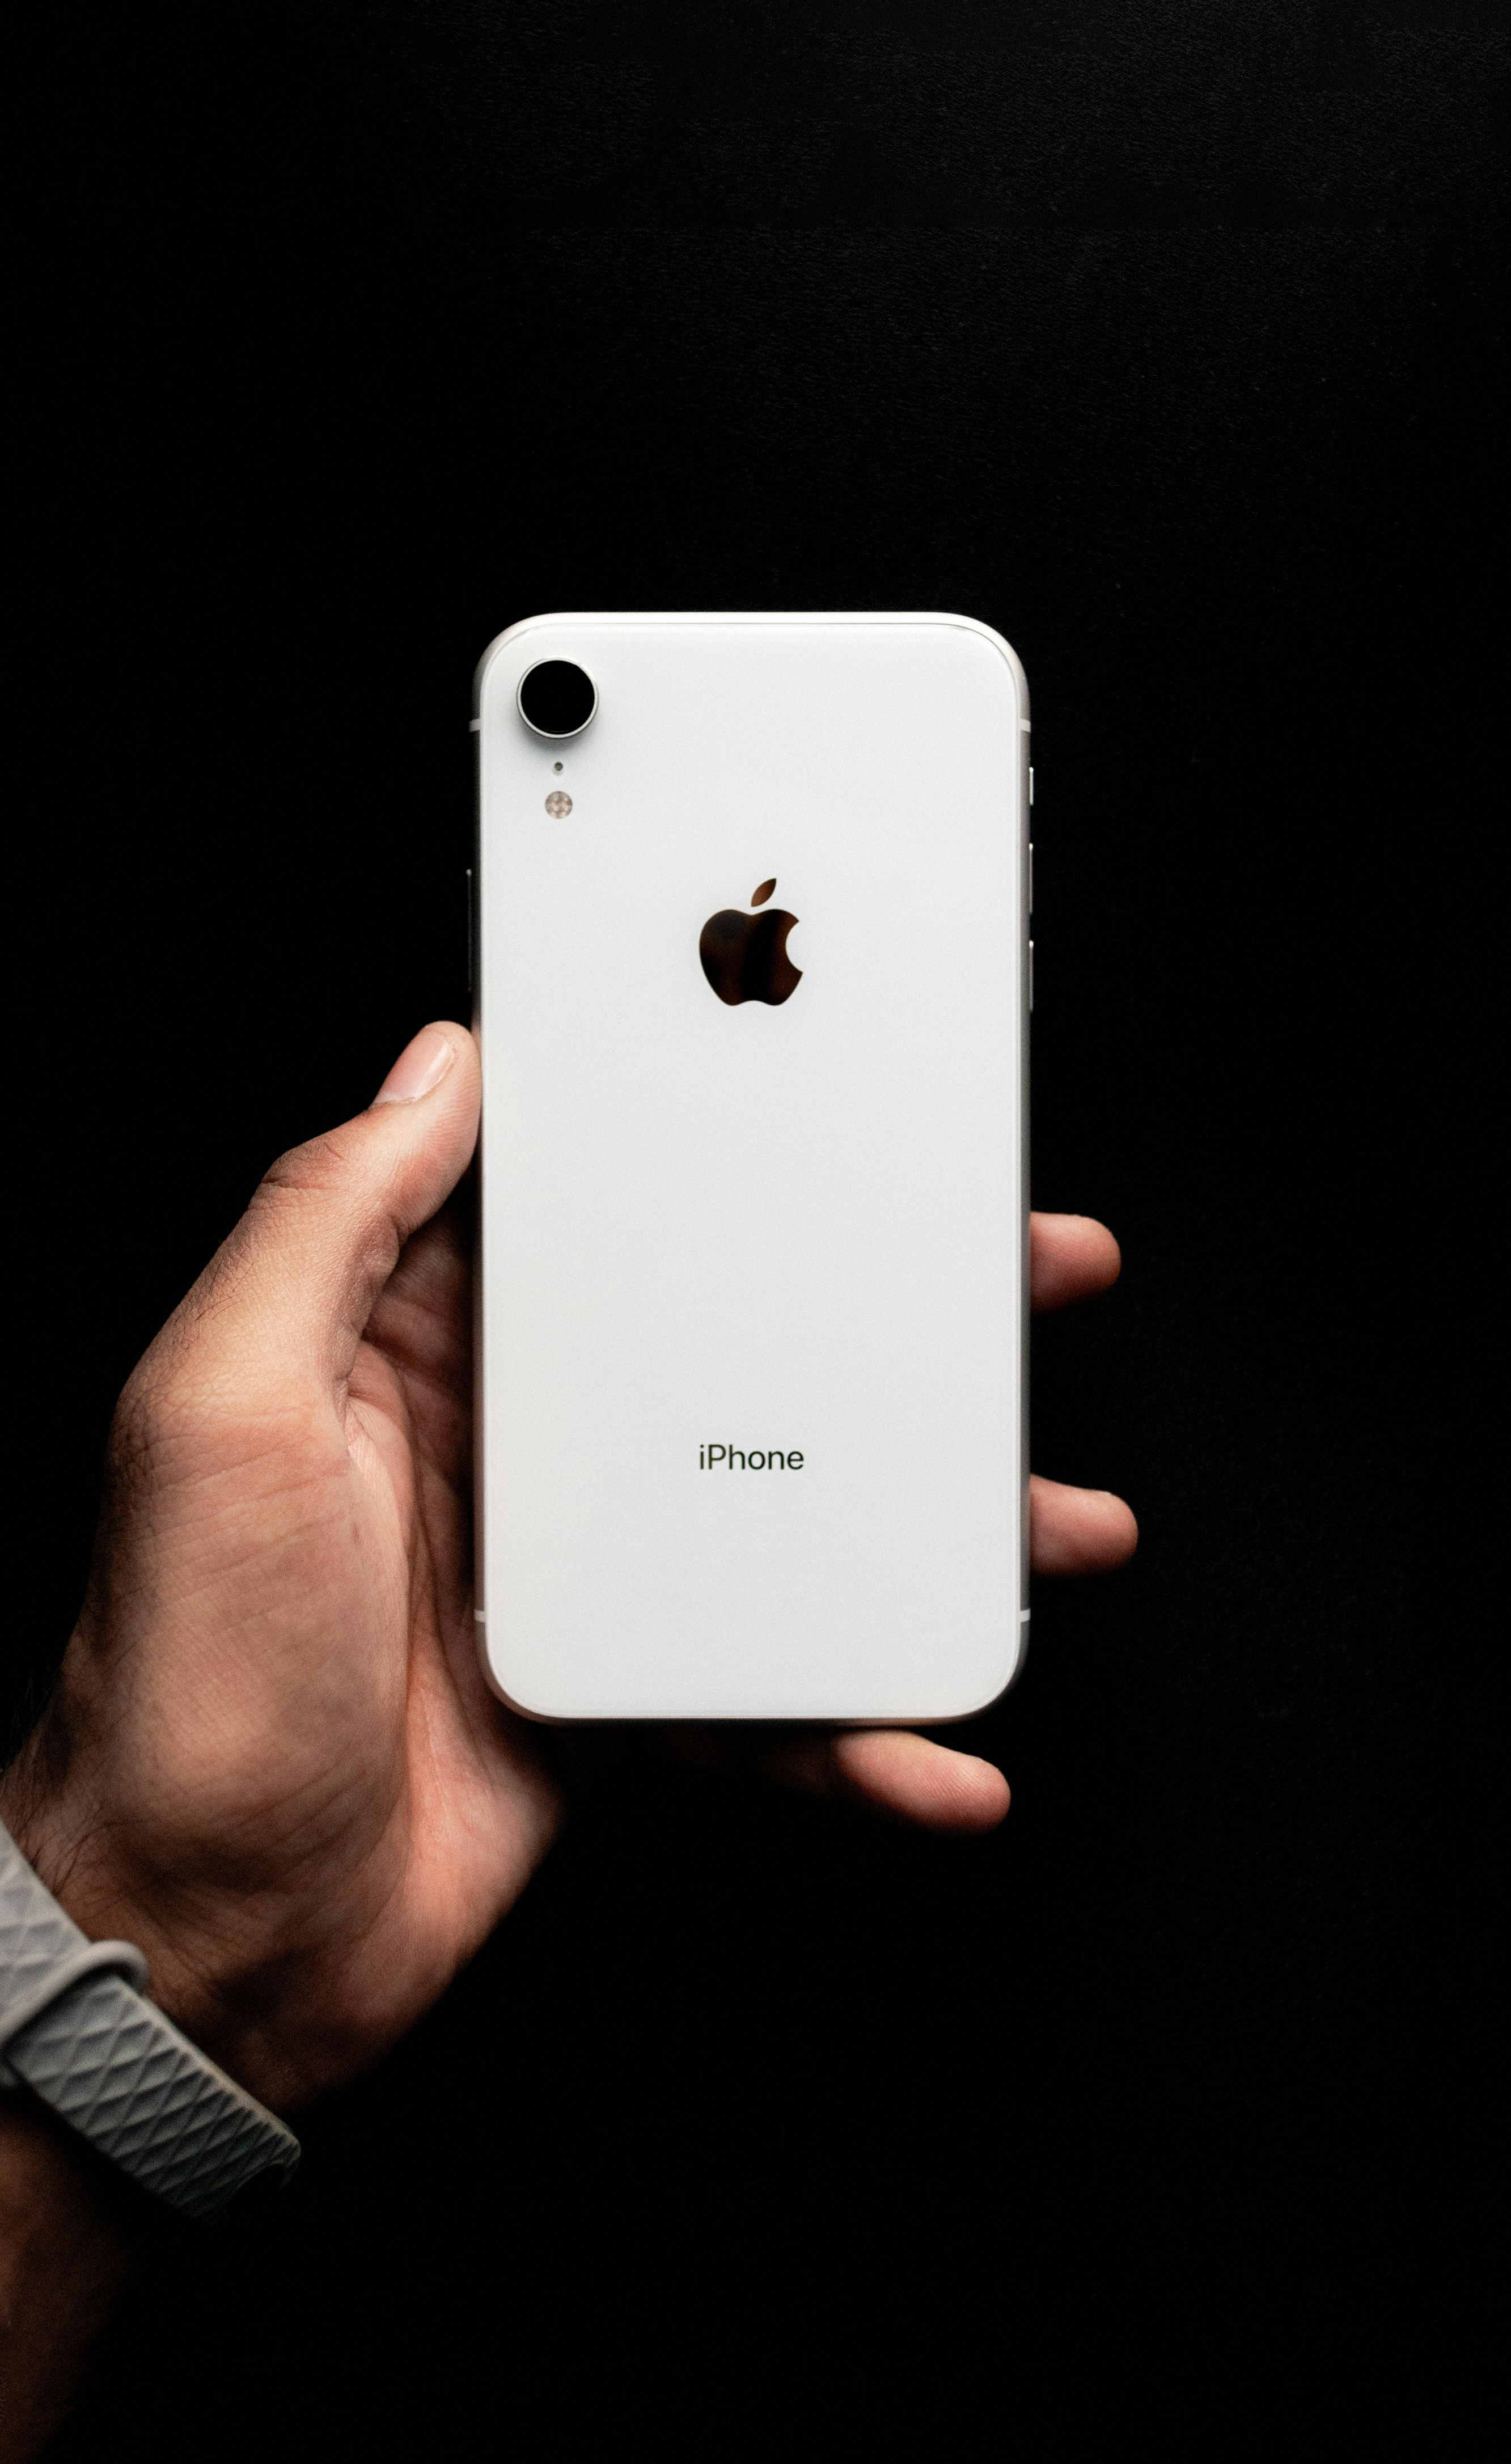p6: (456, 598, 1064, 1749)
